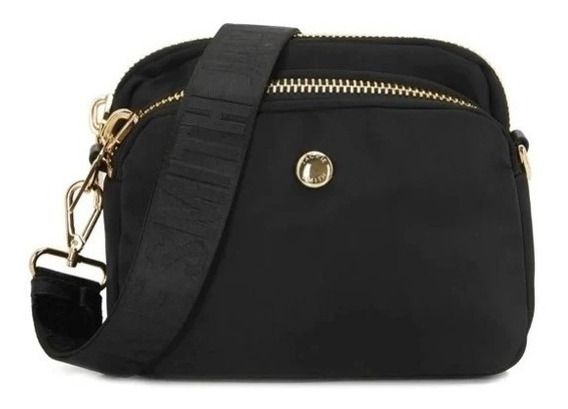cartera: (27, 21, 536, 380)
